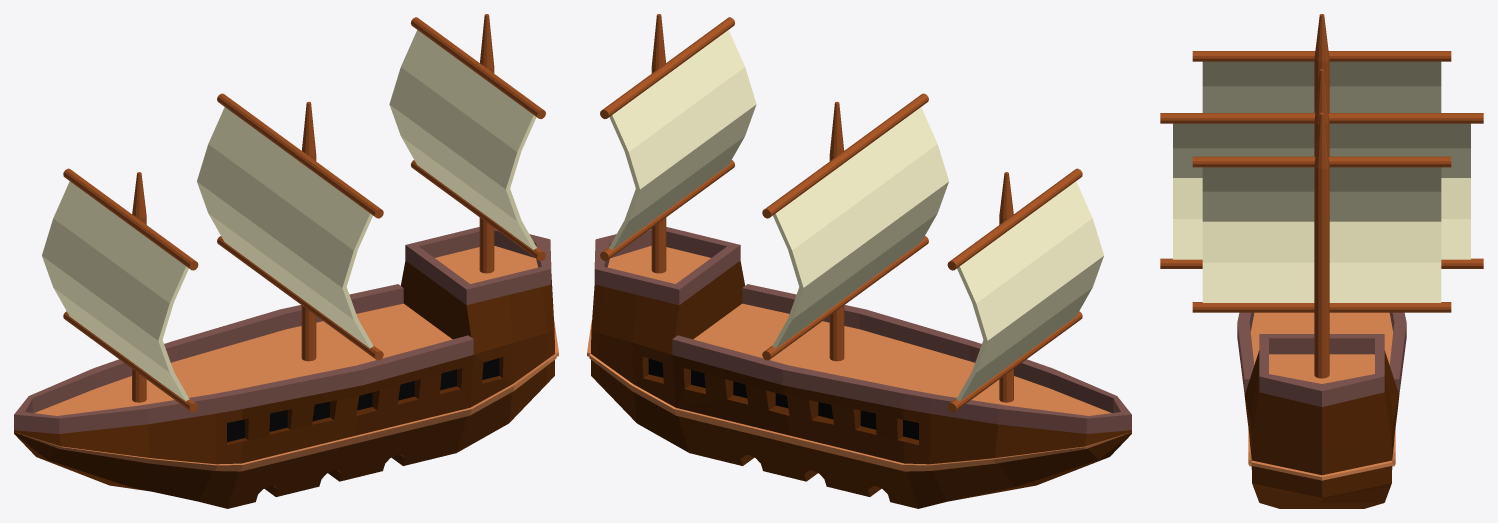
File: Ship.fbx
The picture shows the model from 3 angles, left to right: view 1: azimuth 30°, elevation 25°; view 2: azimuth 150°, elevation 25°; view 3: azimuth 270°, elevation 25°; orthographic projection. The views are drawn at different scales.
Visible parts, largest first — view 1: Ship; view 2: Ship; view 3: Ship.
Part boxes in pixels (x1,y1,x2,y2): Ship: (14, 14, 558, 508); Ship: (587, 14, 1131, 508); Ship: (1160, 14, 1483, 508).
Size of the model in its own units: 255 by 185 by 129.
